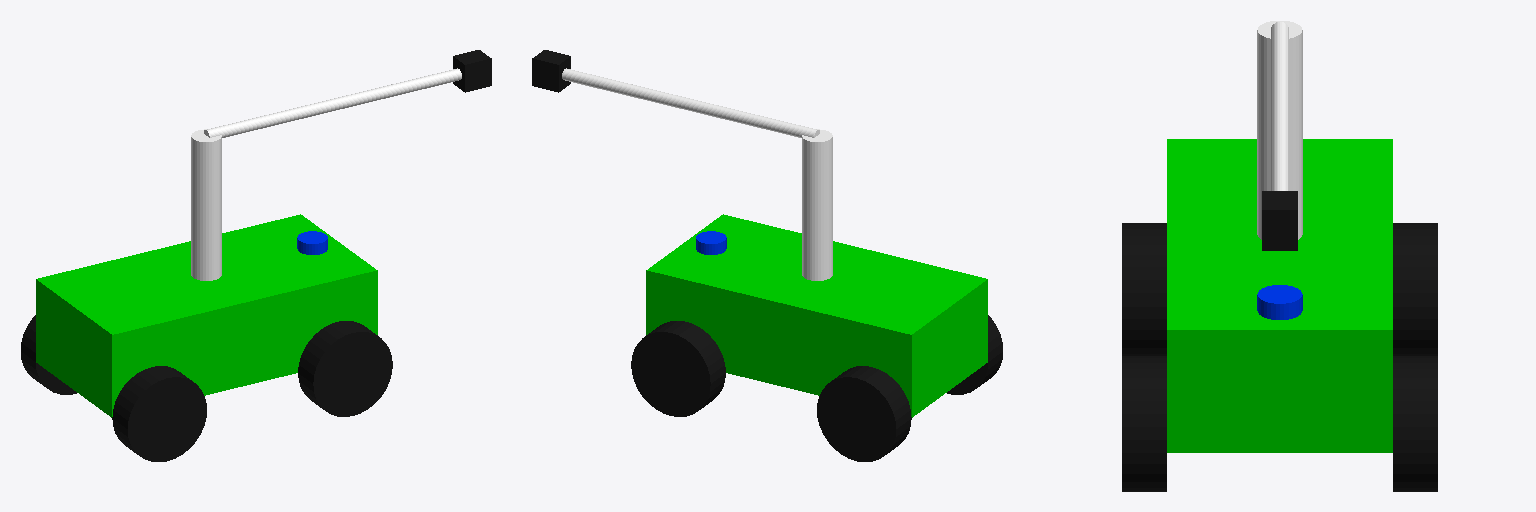
The robot description file, URDF, robot "my_robo":
<?xml version="1.0"?>
<robot name="my_robo">

  <!-- BASE LINK-->
  <link name="base_link">
    <inertial>
      <origin xyz="0.006547 0 0.115974" rpy="0 0 0"/>
      <mass value="6.11"/>
      <inertia ixx="0.875237" ixy="0" ixz="-0.00816105"
               iyy="0.604165" iyz="0" izz="0.604008"/>
    </inertial>
    <collision>
      <origin xyz="0 0 0" rpy="0 0 0"/>
      <geometry><box size="1 0.5 0.3"/></geometry>
    </collision>
    <visual>
      <origin xyz="0 0 0.15" rpy="0 0 0"/>
      <geometry><box size="1 0.5 0.3"/></geometry>
      <material name="green">
        <color rgba="0 0.875 0 1"/>
      </material>
    </visual>
  </link>

  <!--WHEELS -->

  <!-- Front Left Wheel -->
  <joint name="front_left_wheel_joint" type="continuous">
    <parent link="base_link"/>
    <child link="front_left_wheel"/>
    <origin xyz="0.35 0.3 0" rpy="0 0 0"/>
    <axis xyz="0 1 0"/>
  </joint>
  <link name="front_left_wheel">
    <inertial>
      <origin xyz="0 0 0" rpy="1.5708 0 0"/>
      <mass value="1"/>
      <inertia ixx="0.00646" ixy="0" ixz="0"
               iyy="0.01125" iyz="0" izz="0.00646"/>
    </inertial>
    <collision>
      <origin xyz="0 0 0" rpy="1.5708 0 0"/>
      <geometry><cylinder length="0.1" radius="0.15"/></geometry>
    </collision>
    <visual>
      <origin xyz="0 0 0" rpy="1.5708 0 0"/>
      <geometry><cylinder length="0.1" radius="0.15"/></geometry>
      <material name="dark_grey"><color rgba="0.125 0.125 0.125 1"/></material>
    </visual>
  </link>

  <!-- Front Right Wheel -->
  <joint name="front_right_wheel_joint" type="continuous">
    <parent link="base_link"/>
    <child link="front_right_wheel"/>
    <origin xyz="-0.35 0.3 0" rpy="0 0 0"/>
    <axis xyz="0 1 0"/>
  </joint>
  <link name="front_right_wheel">
    <inertial>
      <origin xyz="0 0 0" rpy="1.5708 0 0"/>
      <mass value="1"/>
      <inertia ixx="0.00646" ixy="0" ixz="0"
               iyy="0.01125" iyz="0" izz="0.00646"/>
    </inertial>
    <collision>
      <origin xyz="0 0 0" rpy="1.5708 0 0"/>
      <geometry><cylinder length="0.1" radius="0.15"/></geometry>
    </collision>
    <visual>
      <origin xyz="0 0 0" rpy="1.5708 0 0"/>
      <geometry><cylinder length="0.1" radius="0.15"/></geometry>
      <material name="dark_grey"/>
    </visual>
  </link>

  <!-- Rear Left Wheel -->
  <joint name="rear_left_wheel_joint" type="continuous">
    <parent link="base_link"/>
    <child link="rear_left_wheel"/>
    <origin xyz="0.35 -0.3 0" rpy="0 0 0"/>
    <axis xyz="0 1 0"/>
  </joint>
  <link name="rear_left_wheel">
    <inertial>
      <origin xyz="0 0 0" rpy="1.5708 0 0"/>
      <mass value="1"/>
      <inertia ixx="0.00646" ixy="0" ixz="0"
               iyy="0.01125" iyz="0" izz="0.00646"/>
    </inertial>
    <collision>
      <origin xyz="0 0 0" rpy="1.5708 0 0"/>
      <geometry><cylinder length="0.1" radius="0.15"/></geometry>
    </collision>
    <visual>
      <origin xyz="0 0 0" rpy="1.5708 0 0"/>
      <geometry><cylinder length="0.1" radius="0.15"/></geometry>
      <material name="dark_grey"/>
    </visual>
  </link>

  <!-- Rear Right Wheel -->
  <joint name="rear_right_wheel_joint" type="continuous">
    <parent link="base_link"/>
    <child link="rear_right_wheel"/>
    <origin xyz="-0.35 -0.3 0" rpy="0 0 0"/>
    <axis xyz="0 1 0"/>
  </joint>
  <link name="rear_right_wheel">
    <inertial>
      <origin xyz="0 0 0" rpy="1.5708 0 0"/>
      <mass value="1"/>
      <inertia ixx="0.00646" ixy="0" ixz="0"
               iyy="0.01125" iyz="0" izz="0.00646"/>
    </inertial>
    <collision>
      <origin xyz="0 0 0" rpy="1.5708 0 0"/>
      <geometry><cylinder length="0.1" radius="0.15"/></geometry>
    </collision>
    <visual>
      <origin xyz="0 0 0" rpy="1.5708 0 0"/>
      <geometry><cylinder length="0.1" radius="0.15"/></geometry>
      <material name="dark_grey"/>
    </visual>
  </link>

  <!-- ARM -->

  <!-- Arm base (fixed to body) -->
  <joint name="arm_to_base" type="fixed">
    <parent link="base_link"/>
    <child link="arm_base"/>
    <origin xyz="0 0 0.55" rpy="0 0 0"/>
  </joint>
  <link name="arm_base">
    <visual>
      <origin xyz="0 0 0" rpy="0 0 0"/>
      <geometry><cylinder length="0.5" radius="0.05"/></geometry>
      <material name="white"><color rgba="1 1 1 1"/></material>
    </visual>
    <collision>
      <origin xyz="0 0 0" rpy="0 0 0"/>
      <geometry><cylinder length="0.5" radius="0.05"/></geometry>
    </collision>
    <inertial>
      <mass value="0.1"/>
      <inertia ixx="0.001" ixy="0" ixz="0" iyy="0.001" iyz="0" izz="0.001"/>
    </inertial>
  </link>

  <!-- Arm revolute joint -->
  <joint name="arm_to_extension" type="revolute">
    <parent link="arm_base"/>
    <child link="arm_extension"/>
    <origin xyz="0 0 0.25" rpy="0 0 0"/>
    <axis xyz="0 1 0"/>
    <limit lower="-1.57" upper="1.57" effort="10" velocity="1"/>
  </joint>
  <link name="arm_extension">
    <inertial>
      <origin xyz="0.091 0 0" rpy="0 0 0"/>
      <mass value="0.55"/>
      <inertia ixx="0.01083" ixy="0" ixz="0"
               iyy="0.046270" iyz="0" izz="0.056376"/>
    </inertial>
    <collision>
      <origin xyz="0.5 0 0" rpy="0 1.5708 0"/>
      <geometry><cylinder length="1.0" radius="0.05"/></geometry>
    </collision>
    <visual>
      <origin xyz="0.5 0 0" rpy="0 1.5708 0"/>
      <geometry><cylinder length="1.0" radius="0.02"/></geometry>
      <material name="white"/>
    </visual>
  </link>

  <!--CAMERA  -->

  <joint name="camera_joint" type="fixed">
    <parent link="arm_extension"/>
    <child link="camera_link"/>

    <origin xyz="1.001 0 0" rpy="0 0 0"/>
  </joint>

  <link name="camera_link">
    <inertial>
      <mass value="0.05"/>
      <inertia ixx="0.0001" ixy="0" ixz="0" iyy="0.0001" iyz="0" izz="0.0001"/>
    </inertial>
    <collision>
      <origin xyz="0 0 0" rpy="0 0 0"/>
      <geometry><box size="0.05 0.08 0.05"/></geometry>
    </collision>
    <visual>
      <origin xyz="0 0 0" rpy="0 0 0"/>
      <geometry><box size="0.1 0.08 0.1"/></geometry>
      <material name="very_dark"><color rgba="0.125 0.125 0.125 1"/></material>
    </visual>
  </link>

  <!-- Camera optical frame (z forward, x right, y down — ROS convention) -->
  <joint name="camera_optical_joint" type="fixed">
    <parent link="camera_link"/>
    <child link="camera_optical_frame"/>
    <origin xyz="0 0 0" rpy="-1.5708 0 -1.5708"/>
  </joint>
  <link name="camera_optical_frame"/>

  <!-- Gazebo camera sensor plugin -->
  <gazebo reference="camera_link">
    <sensor name="camera" type="camera">
      <pose>0 0 0 0 0 0</pose>
      <always_on>true</always_on>
      <update_rate>30</update_rate>
      <camera>
        <horizontal_fov>1.047</horizontal_fov>
        <image>
          <width>640</width>
          <height>480</height>
          <format>R8G8B8</format>
        </image>
        <clip>
          <near>0.1</near>
          <far>100</far>
        </clip>
        <noise>
          <type>gaussian</type>
          <mean>0.0</mean>
          <stddev>0.007</stddev>
        </noise>
      </camera>
      <topic>/model/my_robo/camera</topic>
      <gz_frame_id>camera_link</gz_frame_id>
    </sensor>
  </gazebo>


  <joint name="imu_joint" type="fixed">
    <parent link="base_link"/>
    <child link="imu_link"/>

    <origin xyz="0 0 0.16" rpy="0 0 0"/>
  </joint>

  <link name="imu_link">
    <inertial>
      <mass value="0.01"/>
      <inertia ixx="0.00001" ixy="0" ixz="0" iyy="0.00001" iyz="0" izz="0.00001"/>
    </inertial>
    <collision>
      <origin xyz="0 0 0" rpy="0 0 0"/>
      <geometry><box size="0.03 0.03 0.01"/></geometry>
    </collision>
    <visual>
      <origin xyz="0 0 0" rpy="0 0 0"/>
      <geometry><box size="0.03 0.03 0.01"/></geometry>
      <material name="light_grey"><color rgba="0.875 0.875 0.875 1"/></material>
    </visual>
  </link>

  <!-- Gazebo IMU sensor plugin -->
  <gazebo reference="imu_link">
    <sensor name="imu" type="imu">
      <always_on>true</always_on>
      <update_rate>100</update_rate>
      <imu>
        <angular_velocity>
          <x><noise type="gaussian"><mean>0</mean><stddev>0.009</stddev></noise></x>
          <y><noise type="gaussian"><mean>0</mean><stddev>0.009</stddev></noise></y>
          <z><noise type="gaussian"><mean>0</mean><stddev>0.009</stddev></noise></z>
        </angular_velocity>
        <linear_acceleration>
          <x><noise type="gaussian"><mean>0</mean><stddev>0.1</stddev></noise></x>
          <y><noise type="gaussian"><mean>0</mean><stddev>0.1</stddev></noise></y>
          <z><noise type="gaussian"><mean>0</mean><stddev>0.1</stddev></noise></z>
        </linear_acceleration>
      </imu>
      <topic>/model/my_robo/imu</topic>
      <gz_frame_id>imu_link</gz_frame_id>
    </sensor>
  </gazebo>

  <!-- LIDAR -->

  <joint name="lidar_joint" type="fixed">
    <parent link="base_link"/>
    <child link="lidar_link"/>

    <origin xyz="0.4 0 0.32" rpy="0 0 0"/>
  </joint>

  <link name="lidar_link">
    <inertial>
      <mass value="0.1"/>
      <inertia ixx="0.0001" ixy="0" ixz="0" iyy="0.0001" iyz="0" izz="0.0001"/>
    </inertial>
    <collision>
      <origin xyz="0 0 0" rpy="0 0 0"/>
      <geometry><cylinder length="0.04" radius="0.05"/></geometry>
    </collision>
    <visual>
      <origin xyz="0 0 0" rpy="0 0 0"/>
      <geometry><cylinder length="0.04" radius="0.05"/></geometry>
      <material name="blue"><color rgba="0 0.25 1 1"/></material>
    </visual>
  </link>

  <!-- Gazebo lidar sensor plugin -->
  <gazebo reference="lidar_link">
    <sensor name="lidar" type="gpu_lidar">
      <always_on>true</always_on>
      <update_rate>10</update_rate>
      <lidar>
        <scan>
          <horizontal>
            <samples>360</samples>
            <resolution>1</resolution>
            <min_angle>-3.14159</min_angle>
            <max_angle>3.14159</max_angle>
          </horizontal>
        </scan>
        <range>
          <min>0.15</min>
          <max>12.0</max>
          <resolution>0.01</resolution>
        </range>
        <noise>
          <type>gaussian</type>
          <mean>0.0</mean>
          <stddev>0.01</stddev>
        </noise>
      </lidar>
      <topic>/model/my_robo/lidar</topic>
      <gz_frame_id>lidar_link</gz_frame_id>
    </sensor>
  </gazebo>

  <!-- DIFF DRIVE PLUGIN -->
  <gazebo>
    <plugin name="ignition::gazebo::systems::DiffDrive"
            filename="libignition-gazebo-diff-drive-system.so">
      <left_joint>rear_left_wheel_joint</left_joint>
      <right_joint>rear_right_wheel_joint</right_joint>
      <wheel_separation>0.5</wheel_separation>
      <wheel_radius>0.15</wheel_radius>
      <odom_publish_frequency>1</odom_publish_frequency>
      <odom_topic>/model/my_robo/odometry</odom_topic>
      <topic>/model/my_robo/cmd_vel</topic>
      <publish_odom>true</publish_odom>
      <publish_odom_tf>true</publish_odom_tf>
      <publish_wheel_tf>true</publish_wheel_tf>
    </plugin>

    <!-- Joint State Publisher plugin -->
    <plugin name="ignition::gazebo::systems::JointStatePublisher"
            filename="libignition-gazebo-joint-state-publisher-system.so">
      <joint>rear_left_wheel_joint</joint>
      <joint>rear_right_wheel_joint</joint>
      <joint>front_left_wheel_joint</joint>
      <joint>front_right_wheel_joint</joint>
      <joint>arm_to_extension</joint>
    </plugin>
  </gazebo>

</robot>

--- Facts derived from the render (not from the file) ---
3 views of the same robot in one strip: view 1: azimuth 30°, elevation 25°; view 2: azimuth 150°, elevation 25°; view 3: azimuth 270°, elevation 25° (orthographic).
Robot: my_robo — 11 links, 10 joints (1 revolute, 4 continuous, 5 fixed); root link base_link; default pose: all joints at 0.
Links seen in each view (by area): view 1: base_link, rear_right_wheel, rear_left_wheel, arm_base, arm_extension, camera_link, front_right_wheel, lidar_link; view 2: base_link, front_right_wheel, front_left_wheel, arm_base, arm_extension, camera_link, rear_right_wheel, lidar_link; view 3: base_link, front_left_wheel, rear_left_wheel, front_right_wheel, rear_right_wheel, arm_base, arm_extension, camera_link, lidar_link.
Link boxes in pixels (bbox=[...]): base_link: bbox=[36, 214, 377, 417]; rear_right_wheel: bbox=[112, 366, 206, 461]; rear_left_wheel: bbox=[298, 321, 392, 416]; arm_base: bbox=[191, 129, 221, 280]; arm_extension: bbox=[204, 68, 461, 137]; camera_link: bbox=[453, 50, 491, 92]; front_right_wheel: bbox=[21, 315, 76, 394]; lidar_link: bbox=[297, 231, 327, 254]; base_link: bbox=[646, 214, 987, 417]; front_right_wheel: bbox=[817, 366, 911, 461]; front_left_wheel: bbox=[631, 321, 725, 416]; arm_base: bbox=[802, 129, 832, 280]; arm_extension: bbox=[562, 68, 819, 137]; camera_link: bbox=[532, 50, 570, 92]; rear_right_wheel: bbox=[947, 315, 1002, 394]; lidar_link: bbox=[696, 231, 726, 254]; base_link: bbox=[1167, 139, 1392, 452]; front_left_wheel: bbox=[1393, 356, 1437, 491]; rear_left_wheel: bbox=[1122, 356, 1166, 491]; front_right_wheel: bbox=[1393, 223, 1437, 355]; rear_right_wheel: bbox=[1122, 223, 1166, 355]; arm_base: bbox=[1257, 21, 1302, 239]; arm_extension: bbox=[1271, 22, 1288, 190]; camera_link: bbox=[1262, 191, 1297, 250]; lidar_link: bbox=[1257, 285, 1302, 319].
Bounding box of the posed robot: 1.55 × 0.7 × 1 m (x, y, z).
Geometry: primitives only (box / cylinder / sphere), no mesh files.
